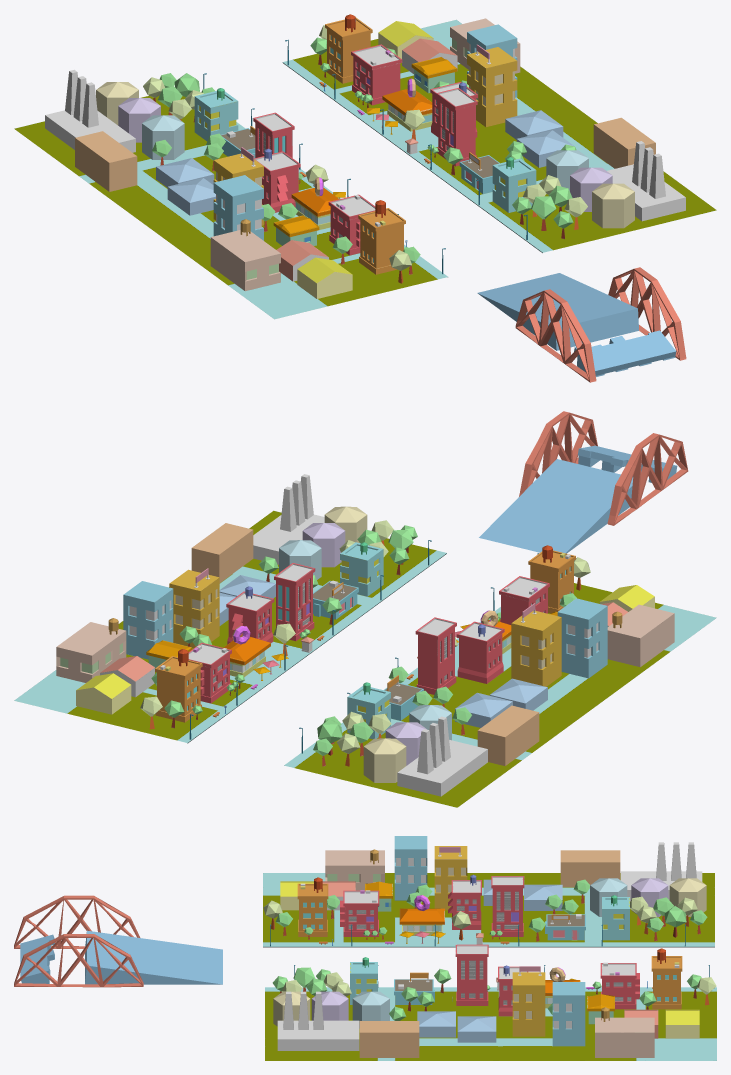
The model's file is city_pre_2.glb.
The picture shows the model from 3 angles, top to bottom: view 1: azimuth 30°, elevation 25°; view 2: azimuth 150°, elevation 25°; view 3: azimuth 270°, elevation 25°; orthographic projection. The views are drawn at different scales.
Visible parts, largest first — view 1: ground, ground.001, bridge.016, bridge.018, third_plan building.001, second_plan building, factory building.002, bridge.001, second_plan building.004, bridge.014, building.003, building.004 (+36 smaller); view 2: ground.001, ground, bridge.016, bridge.018, second_plan building.002, second_plan building.004, second_plan building.001, third_plan building.001, third_plan building, second_plan building, factory building.002, bridge.001 (+30 smaller); view 3: ground.001, ground, bridge.016, bridge.001, third_plan building, factory building.006, factory building, second_plan building.001, second_plan building, building.003, second_plan building.004, factory building.002 (+33 smaller).
Part boxes in pixels (x1,y1,x2,y2): ground: (282,19,716,252); ground.001: (14,95,447,319); bridge.016: (477,273,638,350); bridge.018: (515,289,596,382); third_plan building.001: (210,230,280,291); second_plan building: (467,47,517,127); factory building.002: (75,131,137,191); bridge.001: (608,267,686,360); second_plan building.004: (213,175,263,240); bridge.014: (574,330,676,376); building.003: (436,87,477,166); building.004: (358,208,405,274); ground.001: (284,583,716,807); ground: (14,510,446,743); bridge.016: (479,459,633,553); bridge.018: (607,433,688,525); second_plan building.002: (511,610,561,686); second_plan building.004: (557,598,607,678); second_plan building.001: (123,581,173,659); third_plan building.001: (607,604,674,667); third_plan building: (56,622,126,682); second_plan building: (169,569,219,648); factory building.002: (477,705,539,765); bridge.001: (519,411,597,496); ground.001: (263,873,714,947); ground: (265,987,716,1060); bridge.016: (85,930,222,984); bridge.001: (14,934,143,987); third_plan building: (595,1017,654,1057); factory building.006: (277,1020,359,1050); factory building: (359,1021,419,1057); second_plan building.001: (552,982,585,1046); second_plan building: (512,972,545,1036); building.003: (455,944,488,1005); second_plan building.004: (394,836,427,900); factory building.002: (560,850,620,887).
Bounding box in the file's own units: 31.94 × 4.96 × 50.51.
Materials: 40 (21 with a texture image).
